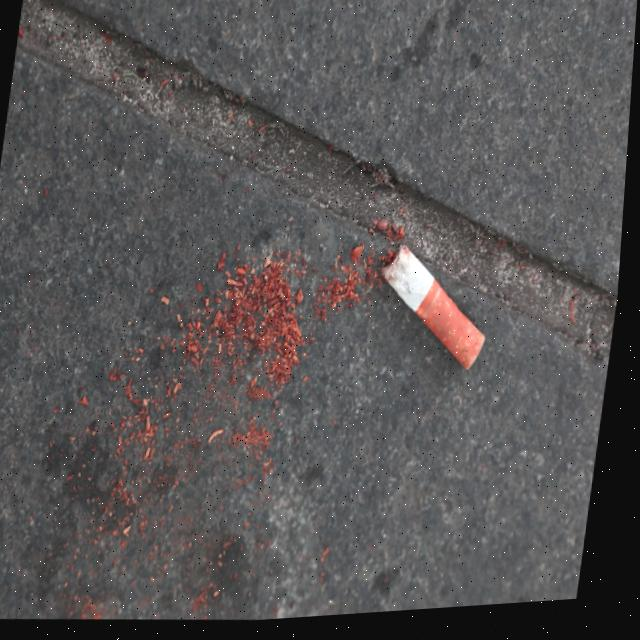cigarette: (381, 242, 484, 365)
